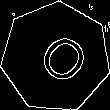O_SW: (23, 24, 88, 91)
